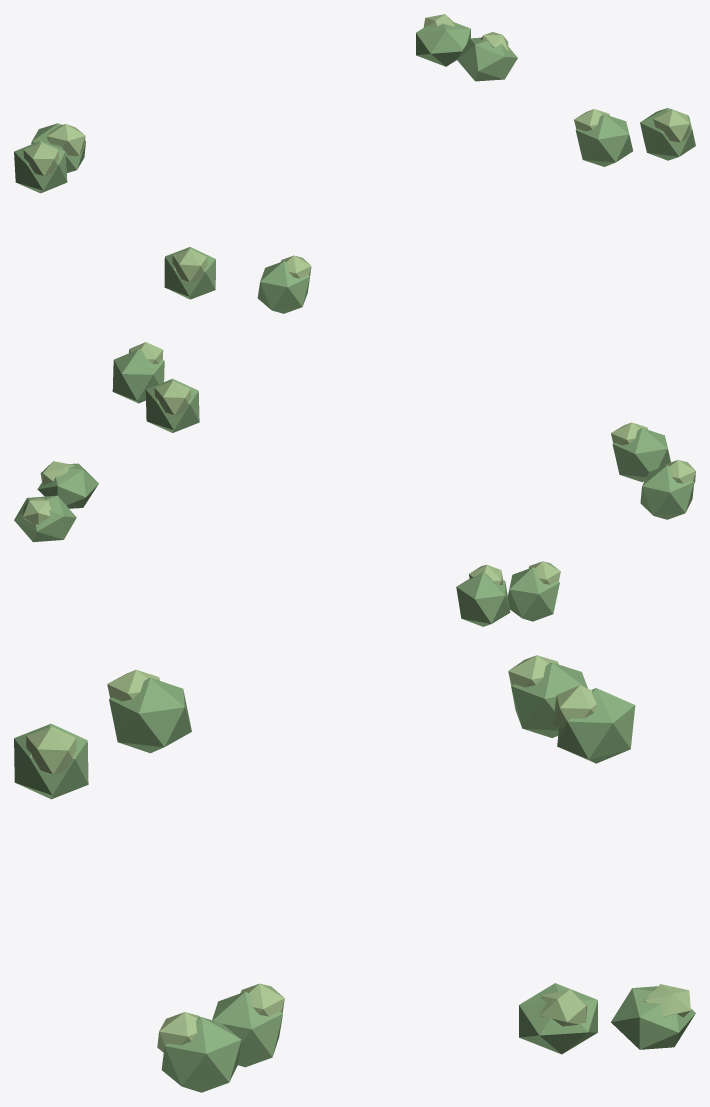
Rendered from mossbound_ruins_wind_canopies.fbx.
3 renders of one model, top to bottom at view 1: azimuth 30°, elevation 25°; view 2: azimuth 150°, elevation 25°; view 3: azimuth 270°, elevation 25°, orthographic. The views are drawn at different scales.
Parts seen in each view (by area): view 1: chunk_mossbound_ruins__tree_canopy_14, chunk_mossbound_ruins__tree_canopy_07, chunk_mossbound_ruins__tree_canopy_11, chunk_mossbound_ruins__tree_canopy_09, chunk_mossbound_ruins__tree_canopy_02, chunk_mossbound_ruins__tree_canopy_04, chunk_mossbound_ruins__tree_canopy_16, chunk_mossbound_ruins__tree_canopy_01, chunk_mossbound_ruins__tree_canopy_03, chunk_mossbound_ruins__tree_canopy_15, chunk_mossbound_ruins__tree_canopy_06, chunk_mossbound_ruins__tree_canopy_05; view 2: chunk_mossbound_ruins__tree_canopy_05, chunk_mossbound_ruins__tree_canopy_07, chunk_mossbound_ruins__tree_canopy_04, chunk_mossbound_ruins__tree_canopy_02, chunk_mossbound_ruins__tree_canopy_16, chunk_mossbound_ruins__tree_canopy_09, chunk_mossbound_ruins__tree_canopy_11, chunk_mossbound_ruins__tree_canopy_14, chunk_mossbound_ruins__tree_canopy_12, chunk_mossbound_ruins__tree_canopy_10, chunk_mossbound_ruins__tree_canopy_03, chunk_mossbound_ruins__tree_canopy_08 (+1 smaller); view 3: chunk_mossbound_ruins__tree_canopy_04, chunk_mossbound_ruins__tree_canopy_16, chunk_mossbound_ruins__tree_canopy_05, chunk_mossbound_ruins__tree_canopy_09, chunk_mossbound_ruins__tree_canopy_14, chunk_mossbound_ruins__tree_canopy_11, chunk_mossbound_ruins__tree_canopy_02, chunk_mossbound_ruins__tree_canopy_07, chunk_mossbound_ruins__tree_canopy_08, chunk_mossbound_ruins__tree_canopy_13, chunk_mossbound_ruins__tree_canopy_06, chunk_mossbound_ruins__tree_canopy_15 (+4 smaller).
Part boxes in pixels (bbox=[...]): chunk_mossbound_ruins__tree_canopy_14: bbox=[575, 114, 632, 166]; chunk_mossbound_ruins__tree_canopy_07: bbox=[257, 261, 309, 313]; chunk_mossbound_ruins__tree_canopy_11: bbox=[457, 37, 517, 81]; chunk_mossbound_ruins__tree_canopy_09: bbox=[416, 22, 470, 66]; chunk_mossbound_ruins__tree_canopy_02: bbox=[14, 140, 67, 193]; chunk_mossbound_ruins__tree_canopy_04: bbox=[164, 247, 215, 299]; chunk_mossbound_ruins__tree_canopy_16: bbox=[640, 108, 695, 160]; chunk_mossbound_ruins__tree_canopy_01: bbox=[23, 142, 58, 176]; chunk_mossbound_ruins__tree_canopy_03: bbox=[172, 249, 207, 282]; chunk_mossbound_ruins__tree_canopy_15: bbox=[653, 109, 690, 142]; chunk_mossbound_ruins__tree_canopy_06: bbox=[47, 124, 85, 156]; chunk_mossbound_ruins__tree_canopy_05: bbox=[31, 123, 85, 172]; chunk_mossbound_ruins__tree_canopy_05: bbox=[456, 572, 510, 626]; chunk_mossbound_ruins__tree_canopy_07: bbox=[612, 428, 670, 482]; chunk_mossbound_ruins__tree_canopy_04: bbox=[640, 465, 694, 519]; chunk_mossbound_ruins__tree_canopy_02: bbox=[507, 567, 559, 621]; chunk_mossbound_ruins__tree_canopy_16: bbox=[112, 349, 164, 403]; chunk_mossbound_ruins__tree_canopy_09: bbox=[14, 495, 76, 542]; chunk_mossbound_ruins__tree_canopy_11: bbox=[37, 463, 98, 508]; chunk_mossbound_ruins__tree_canopy_14: bbox=[145, 378, 199, 432]; chunk_mossbound_ruins__tree_canopy_12: bbox=[154, 381, 190, 415]; chunk_mossbound_ruins__tree_canopy_10: bbox=[23, 497, 51, 524]; chunk_mossbound_ruins__tree_canopy_03: bbox=[665, 460, 695, 483]; chunk_mossbound_ruins__tree_canopy_08: bbox=[611, 422, 647, 445]; chunk_mossbound_ruins__tree_canopy_04: bbox=[109, 677, 191, 753]; chunk_mossbound_ruins__tree_canopy_16: bbox=[161, 1017, 241, 1092]; chunk_mossbound_ruins__tree_canopy_05: bbox=[557, 688, 635, 763]; chunk_mossbound_ruins__tree_canopy_09: bbox=[611, 986, 695, 1049]; chunk_mossbound_ruins__tree_canopy_14: bbox=[212, 991, 282, 1067]; chunk_mossbound_ruins__tree_canopy_11: bbox=[519, 983, 597, 1054]; chunk_mossbound_ruins__tree_canopy_02: bbox=[511, 662, 587, 737]; chunk_mossbound_ruins__tree_canopy_07: bbox=[14, 723, 88, 799]; chunk_mossbound_ruins__tree_canopy_08: bbox=[26, 726, 76, 775]; chunk_mossbound_ruins__tree_canopy_13: bbox=[539, 989, 587, 1026]; chunk_mossbound_ruins__tree_canopy_06: bbox=[553, 685, 596, 728]; chunk_mossbound_ruins__tree_canopy_15: bbox=[157, 1012, 200, 1052].
Bounding box in the file's own units: 196 × 22.15 × 147.
